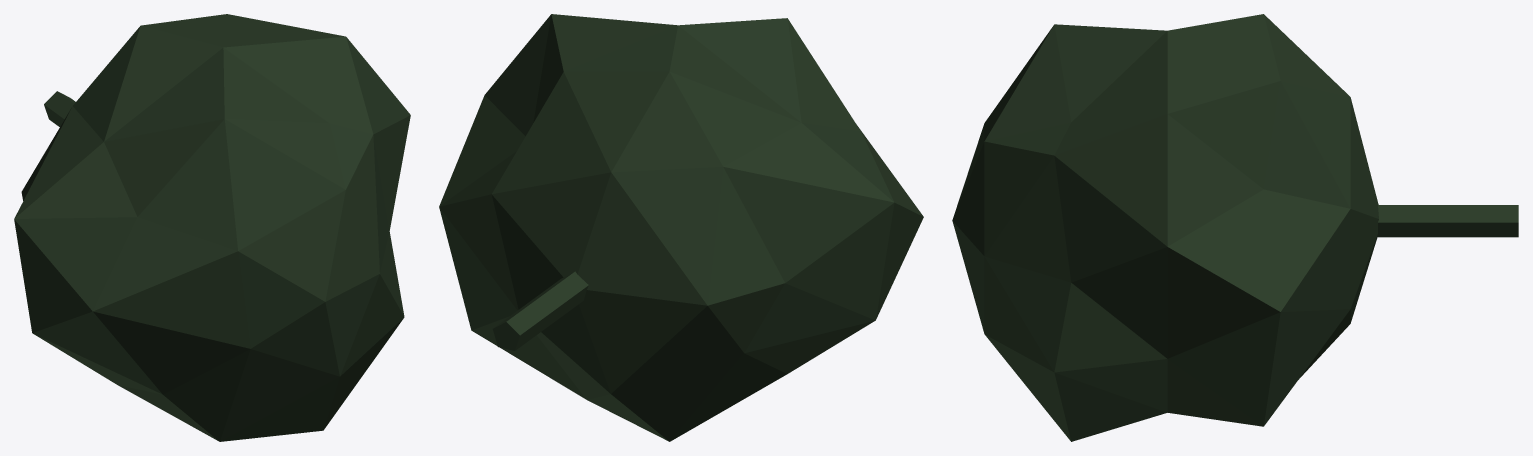
File: tree_far_00.obj
3 renders of one model, left to right at view 1: azimuth 30°, elevation 25°; view 2: azimuth 150°, elevation 25°; view 3: azimuth 270°, elevation 25°, orthographic. The views are drawn at different scales.
Parts seen in each view (by area): view 1: tree_far_00; view 2: tree_far_00; view 3: tree_far_00.
Boxes of the visible parts, left/top/right/bottom form: tree_far_00: left=14, top=14, right=410, bottom=441; tree_far_00: left=439, top=14, right=923, bottom=441; tree_far_00: left=952, top=14, right=1518, bottom=441.
Bounding box in the file's own units: 0.8539 × 0.7467 × 1.
1 material, 1 textured.
